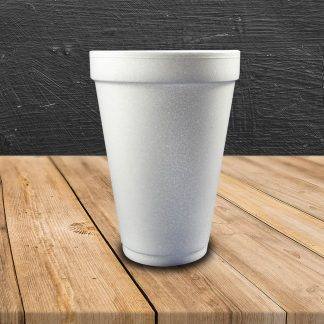Nonrec_Plastic: (84, 38, 241, 280)
